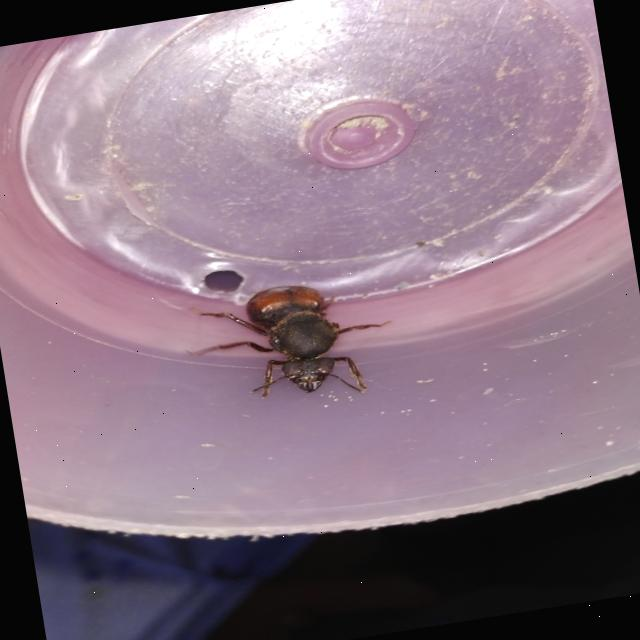Alive-Female-Dealate: (178, 270, 402, 420)
